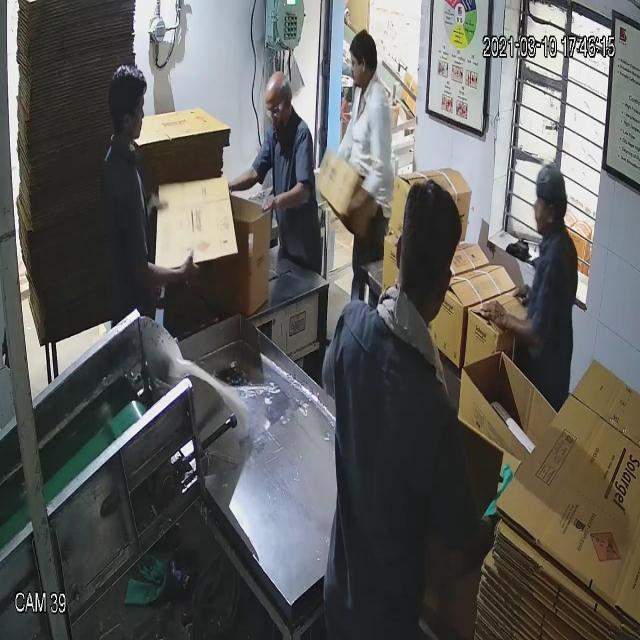No_Gloves: (50, 38, 513, 321)
